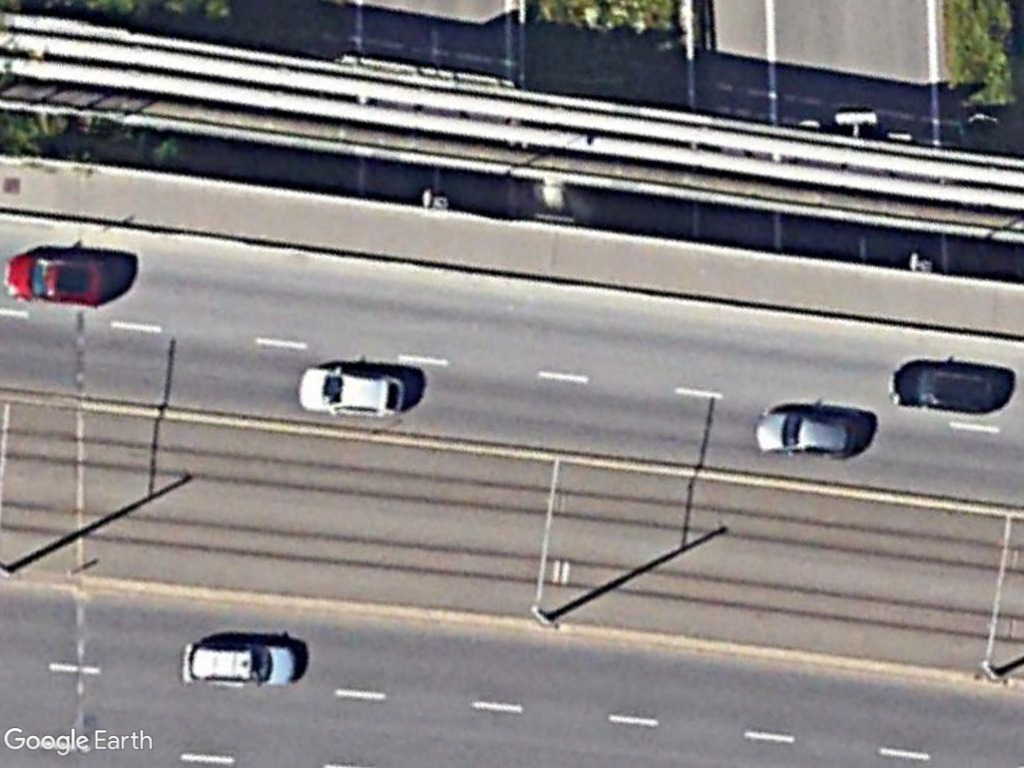car: (296, 361, 411, 420), (177, 635, 301, 689), (1, 250, 114, 307), (749, 408, 864, 462)
